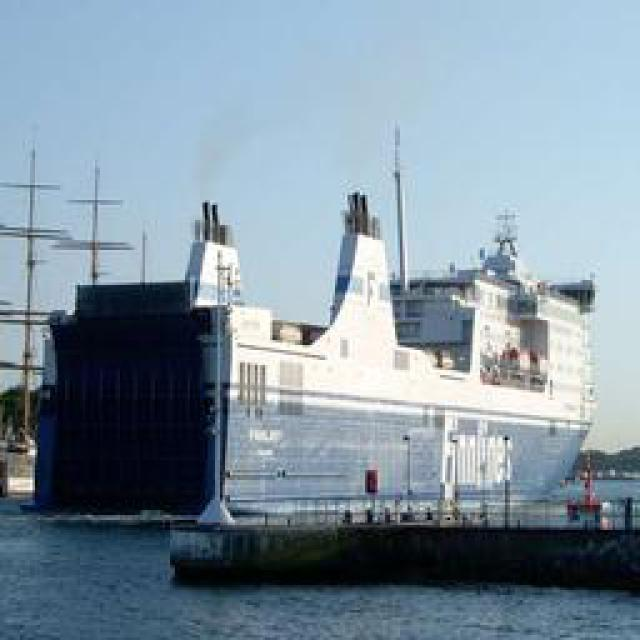Ship: (24, 158, 607, 514)
